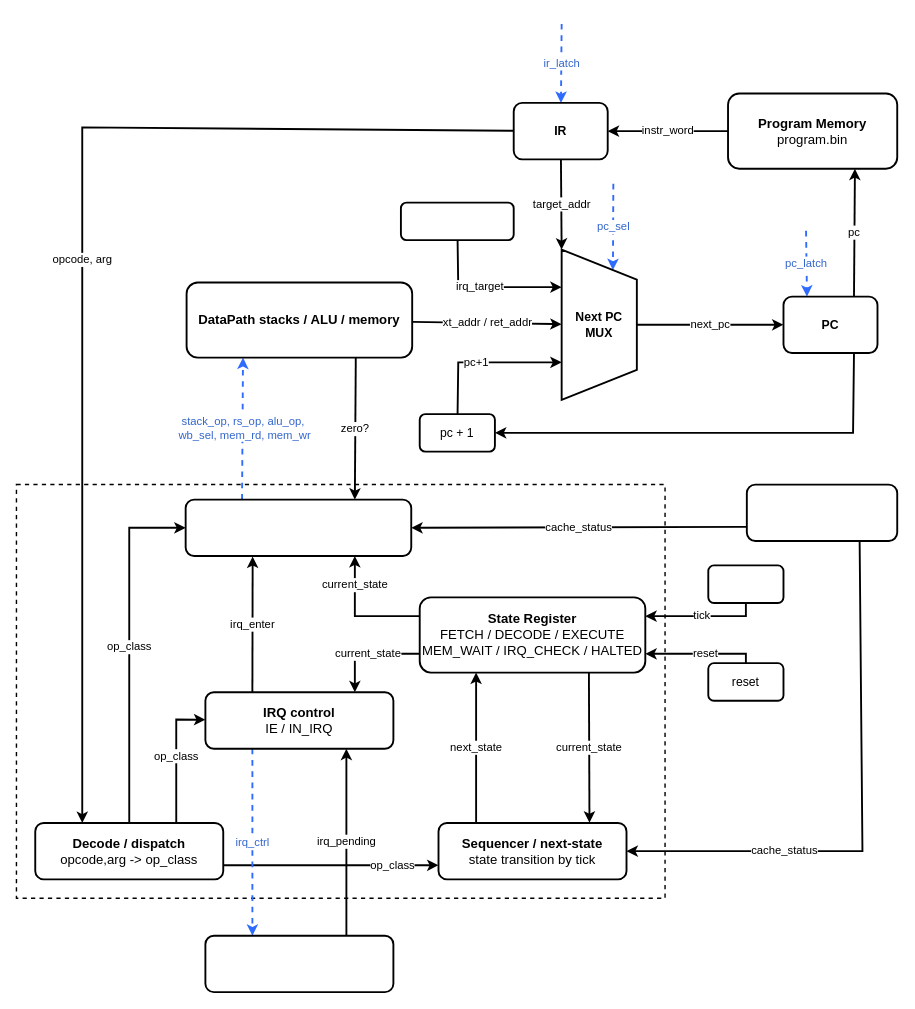
Some shapes in this 915 by 1009 pixel diagram are drawn without their labels. Here are the shapes that lost their labels. From the top down, the box of each, then its label:
(400, 201, 514, 241): Const irq_vector_addr = 1
(184, 498, 412, 556): Datapath control PC / stack / ALU / WB / memory
(745, 483, 898, 541): Cache / memory status hit / miss / wait
(707, 564, 784, 603): tick / clk
(204, 934, 394, 993): IRQ status / controller interface
